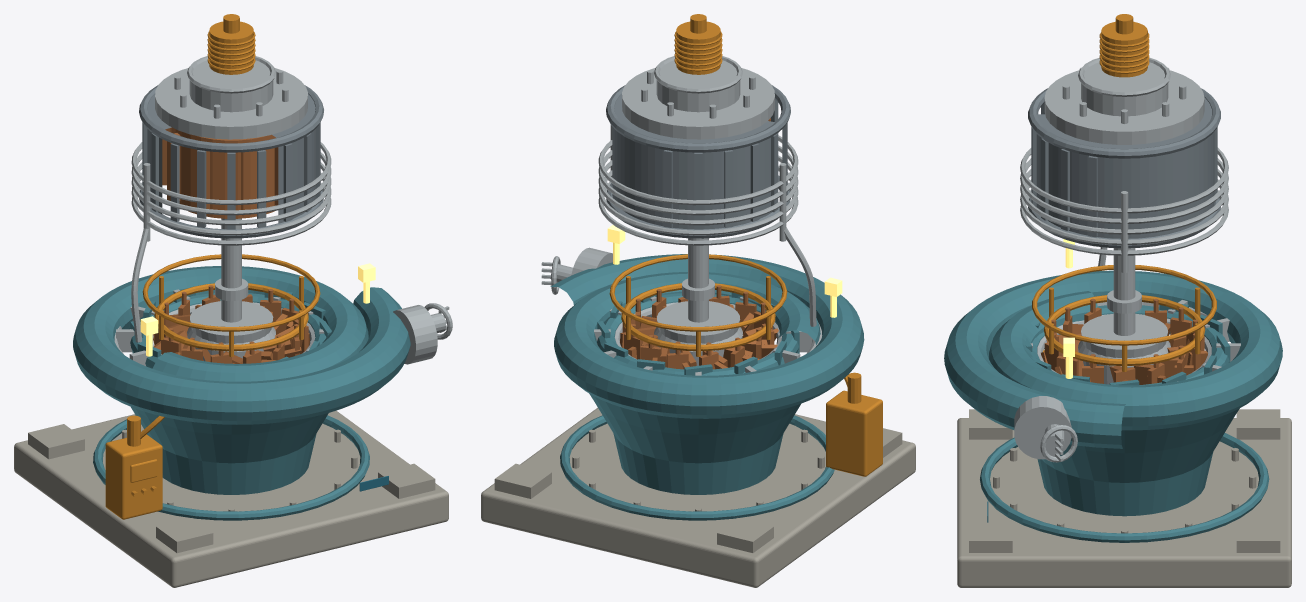
Rendered from francis_turbine.glb.
The picture shows the model from 3 angles, left to right: view 1: azimuth 30°, elevation 25°; view 2: azimuth 150°, elevation 25°; view 3: azimuth 270°, elevation 25°; orthographic projection. The views are drawn at different scales.
Visible parts, largest first — view 1: foundation, spiral_casing, draft_tube, generator_stator, generator_top, cooling_coils, generator_rotor, governor, guide_ring, guide_vanes, runner_hub, exciter (+6 smaller); view 2: foundation, spiral_casing, draft_tube, generator_stator, generator_top, cooling_coils, governor, guide_ring, guide_vanes, runner_hub, exciter, shaft (+5 smaller); view 3: foundation, spiral_casing, draft_tube, generator_stator, generator_top, cooling_coils, guide_ring, inlet_valve, guide_vanes, runner_hub, exciter, shaft (+4 smaller).
Part boxes in pixels (bbox=[...]): foundation: bbox=[14, 410, 448, 587]; spiral_casing: bbox=[73, 266, 410, 424]; draft_tube: bbox=[93, 407, 369, 520]; generator_stator: bbox=[139, 85, 323, 238]; generator_top: bbox=[155, 56, 307, 139]; cooling_coils: bbox=[131, 142, 331, 342]; generator_rotor: bbox=[162, 127, 278, 218]; governor: bbox=[105, 415, 164, 519]; guide_ring: bbox=[142, 254, 320, 356]; guide_vanes: bbox=[154, 285, 308, 363]; runner_hub: bbox=[187, 301, 275, 361]; exciter: bbox=[207, 14, 255, 74]; foundation: bbox=[481, 407, 915, 587]; spiral_casing: bbox=[550, 254, 864, 418]; draft_tube: bbox=[560, 393, 834, 520]; generator_stator: bbox=[606, 85, 790, 238]; generator_top: bbox=[622, 56, 774, 139]; cooling_coils: bbox=[598, 125, 816, 326]; governor: bbox=[826, 372, 882, 476]; guide_ring: bbox=[609, 254, 787, 356]; guide_vanes: bbox=[622, 285, 774, 369]; runner_hub: bbox=[654, 301, 742, 365]; exciter: bbox=[674, 14, 722, 74]; shaft: bbox=[682, 238, 714, 322]; foundation: bbox=[957, 409, 1291, 587]; spiral_casing: bbox=[944, 270, 1282, 448]; draft_tube: bbox=[980, 408, 1269, 542]; generator_stator: bbox=[1028, 88, 1220, 248]; generator_top: bbox=[1044, 57, 1204, 144]; cooling_coils: bbox=[1020, 147, 1228, 272]; guide_ring: bbox=[1032, 265, 1216, 371]; inlet_valve: bbox=[1014, 396, 1077, 462]; guide_vanes: bbox=[1044, 298, 1204, 384]; runner_hub: bbox=[1078, 313, 1170, 384]; exciter: bbox=[1099, 14, 1149, 77]; shaft: bbox=[1107, 248, 1141, 335].
Bounding box in the file's own units: 2.77 × 3.8 × 2.39.
